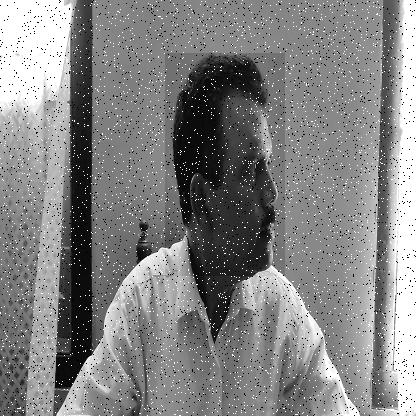Distracted: (165, 53, 285, 276)
